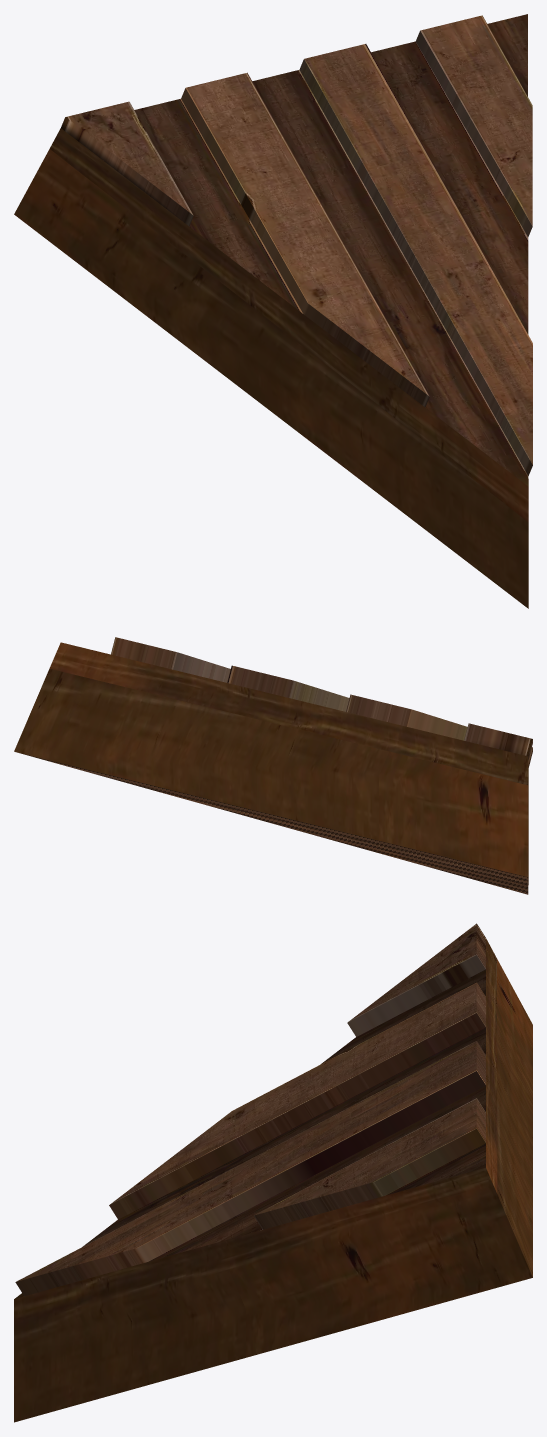
3 views of the same model, one above another, from view 1: azimuth 30°, elevation 25°; view 2: azimuth 150°, elevation 25°; view 3: azimuth 270°, elevation 25° (orthographic).
Parts seen in each view (by area): view 1: SM_BB_T2_Roof_Triangle_Shallow_Med_LOD0; view 2: SM_BB_T2_Roof_Triangle_Shallow_Med_LOD0; view 3: SM_BB_T2_Roof_Triangle_Shallow_Med_LOD0.
Boxes of the visible parts, x1,y1,x2,y2 form: SM_BB_T2_Roof_Triangle_Shallow_Med_LOD0: (14,14,532,608); SM_BB_T2_Roof_Triangle_Shallow_Med_LOD0: (14,637,532,894); SM_BB_T2_Roof_Triangle_Shallow_Med_LOD0: (14,923,532,1422).
Bounding box in the file's own units: 1.65 × 1.17 × 1.43.
Materials: 2 (2 with a texture image).
